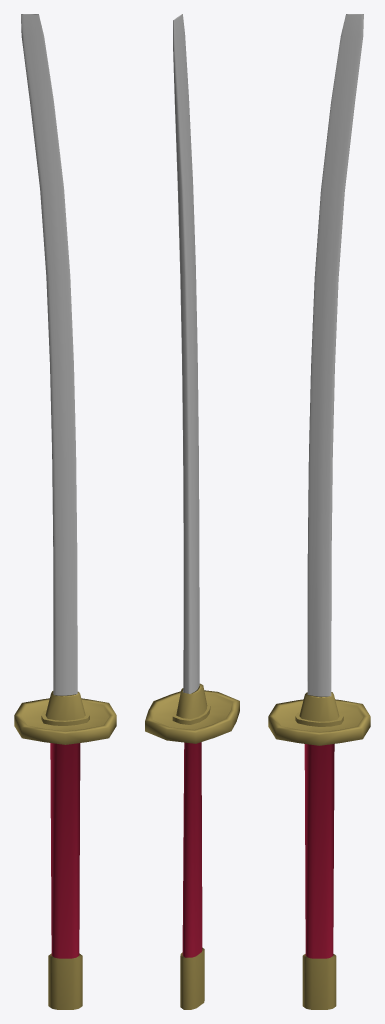
File: Katana_Texture.fbx
3 views of the same model, side by side, from view 1: azimuth 90°, elevation 25°; view 2: azimuth 150°, elevation 25°; view 3: azimuth 270°, elevation 25° (orthographic).
Parts seen in each view (by area): view 1: pCube1; view 2: pCube1; view 3: pCube1.
Boxes of the visible parts, box(x1,y1,x2,y2) form: pCube1: box(14, 14, 116, 1009); pCube1: box(145, 14, 239, 1009); pCube1: box(268, 14, 370, 1009).
Bounding box in the file's own units: 0.112 × 1.37 × 0.1279.
